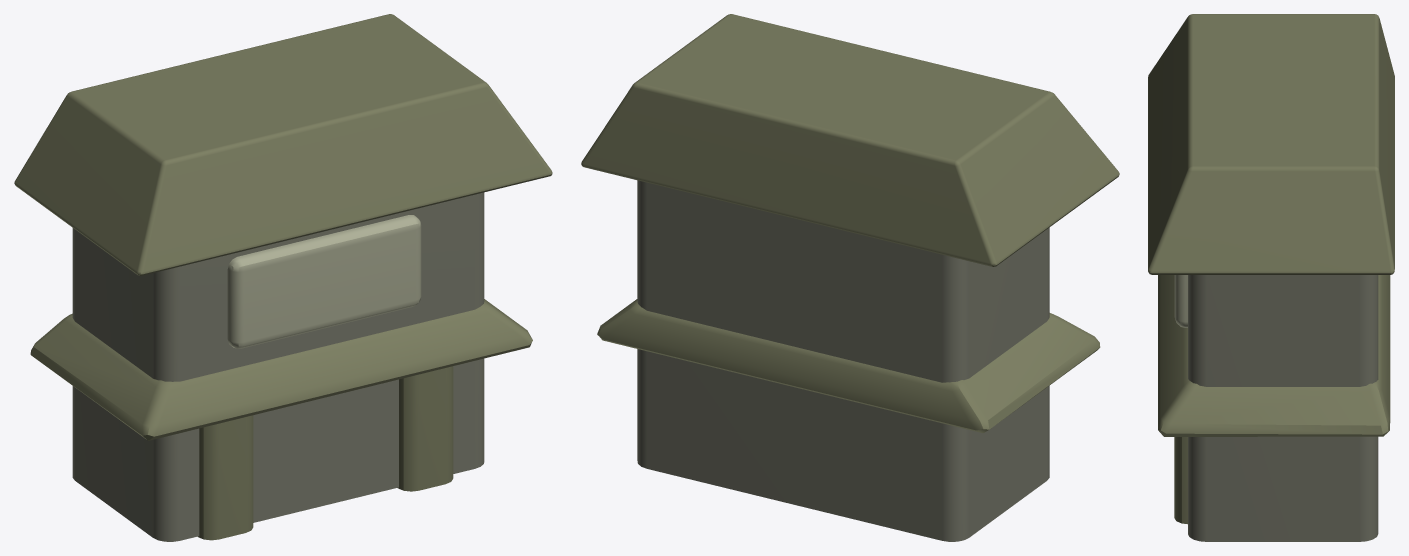
3 views of the same model, side by side, from view 1: azimuth 30°, elevation 25°; view 2: azimuth 150°, elevation 25°; view 3: azimuth 270°, elevation 25° (orthographic). The views are drawn at different scales.
Visible parts, largest first — view 1: polySurface88; view 2: polySurface88; view 3: polySurface88.
Boxes of the visible parts, <box> form: polySurface88: <box>14,14,552,541</box>; polySurface88: <box>581,14,1119,541</box>; polySurface88: <box>1148,14,1394,541</box>.
Size of the model in its own units: 57.97 by 51.15 by 30.55.
